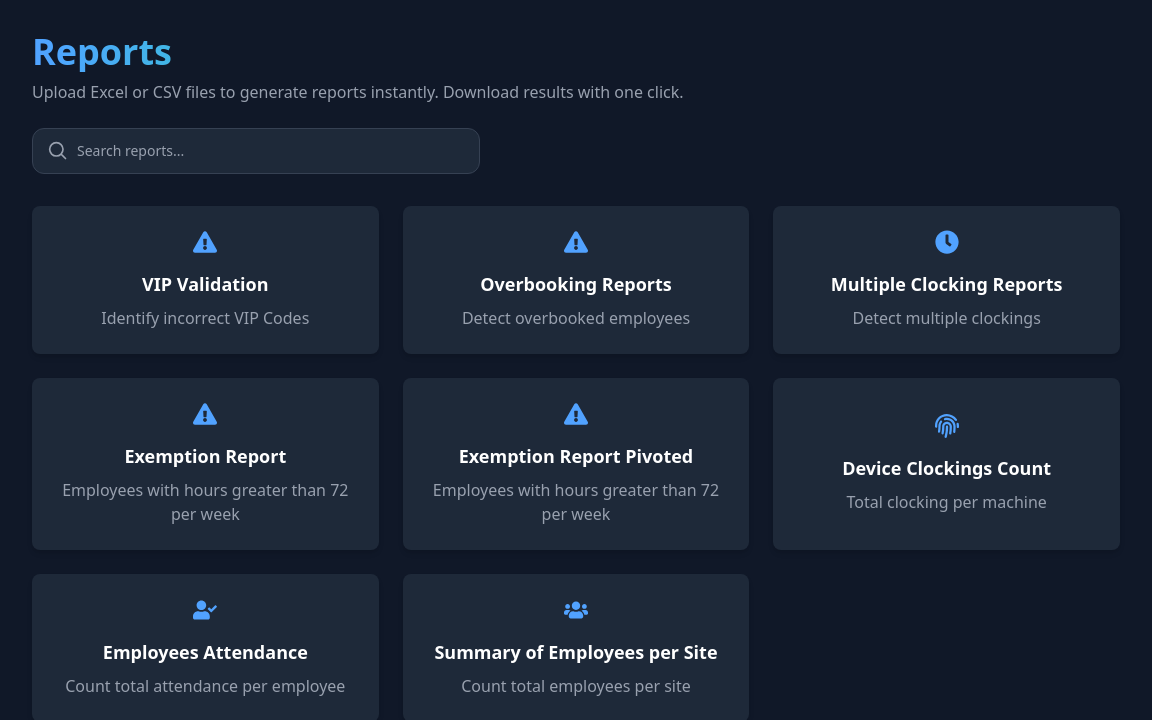
Test: ReportListPage › shows empty state when no reports match
Type "nonexistent" into the field labelled "Search reports" at point(256, 151), box [32,128,480,174]
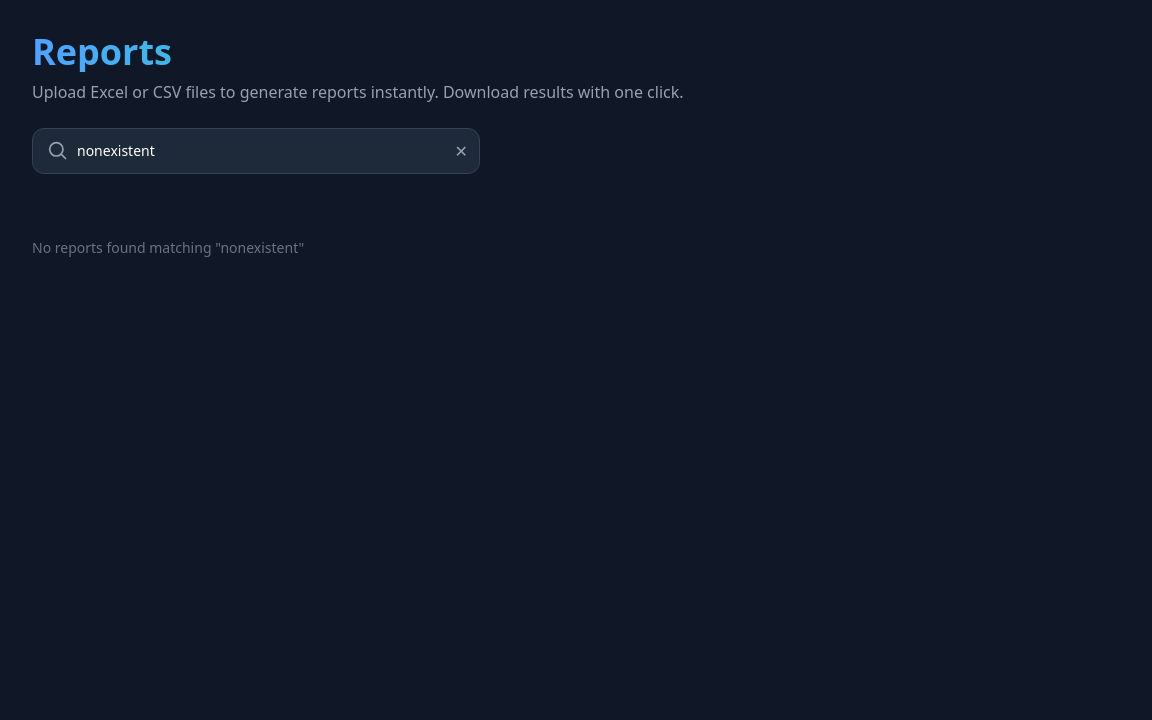
Check: the text "No reports found matching \"nonexistent\"" is shown, box [32,238,304,257]
